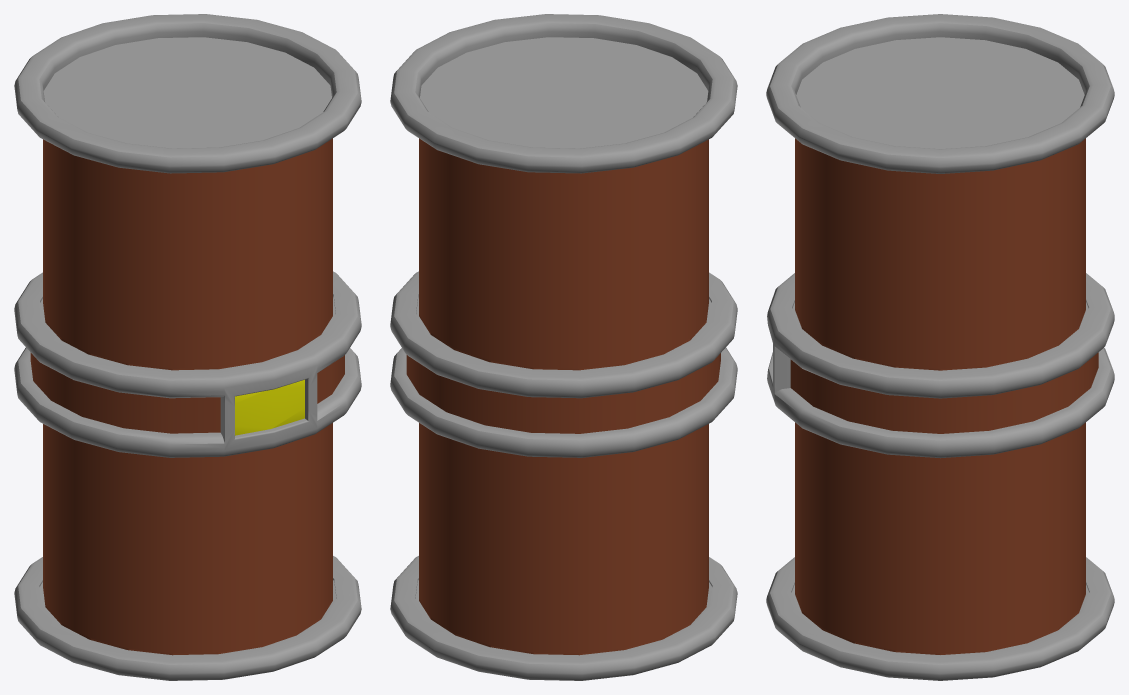
The model's file is Contenedor_Barril.fbx.
3 renders of one model, left to right at view 1: azimuth 30°, elevation 25°; view 2: azimuth 150°, elevation 25°; view 3: azimuth 270°, elevation 25°, orthographic.
Parts seen in each view (by area): view 1: Contenedor_Barril; view 2: Contenedor_Barril; view 3: Contenedor_Barril.
Part boxes in pixels (x1=…): Contenedor_Barril: x1=14, y1=14, x2=361, y2=680; Contenedor_Barril: x1=390, y1=14, x2=737, y2=680; Contenedor_Barril: x1=766, y1=14, x2=1114, y2=680.
Size of the model in its own units: 3.01 by 5 by 3.01.
